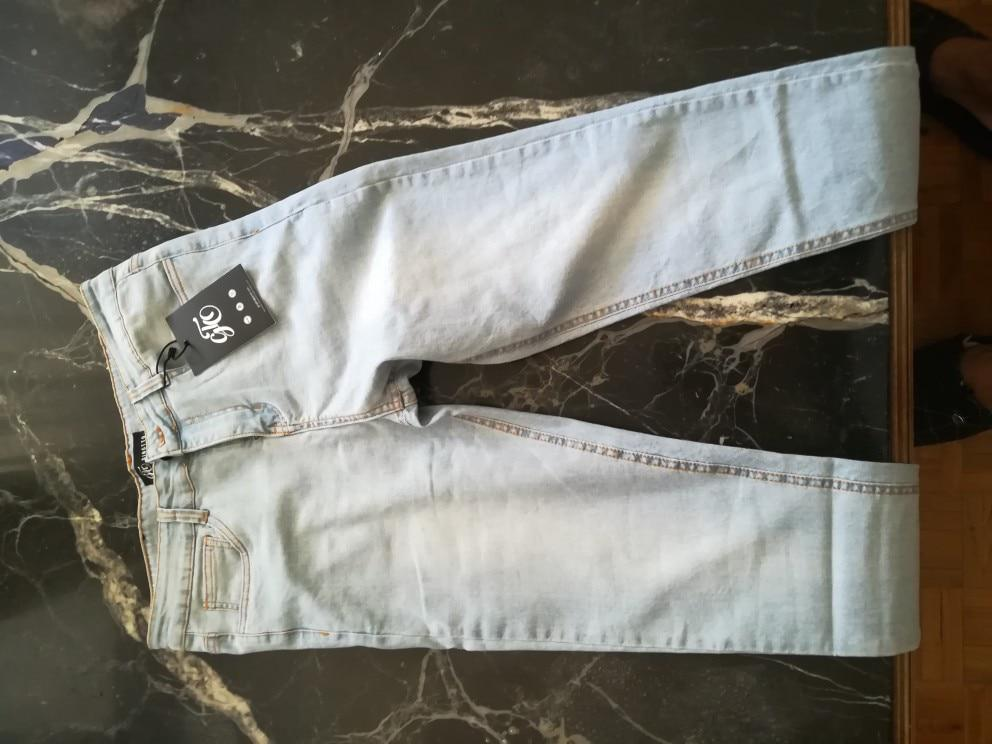jeans: (112, 54, 907, 653)
